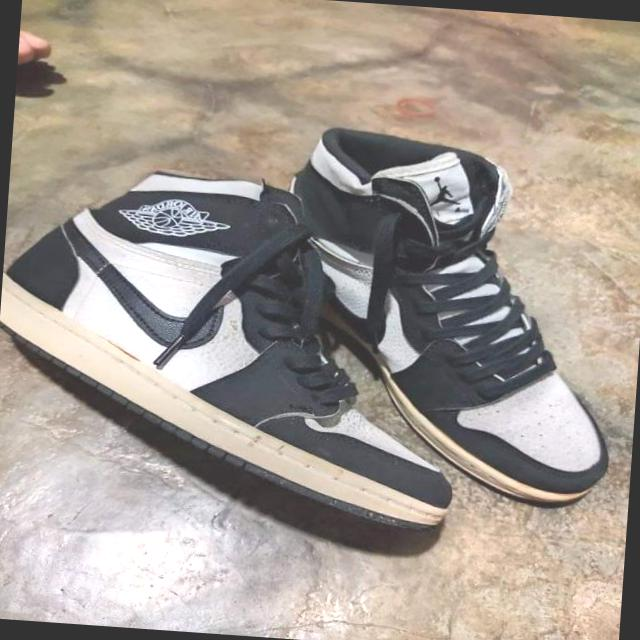nike_fake_jordan: (0, 156, 474, 541), (244, 118, 640, 510)
